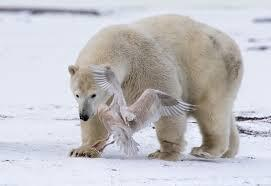bear: (68, 14, 244, 160)
